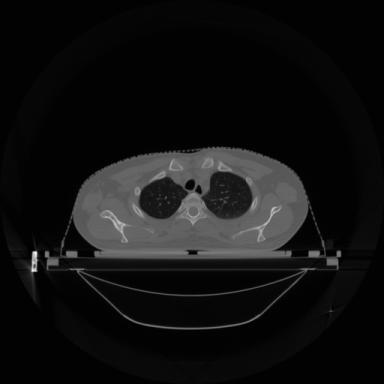body: (72, 148, 308, 251)
cord: (176, 194, 207, 225)
paru kanan: (140, 177, 188, 219)
paru kiri: (202, 172, 252, 219)
